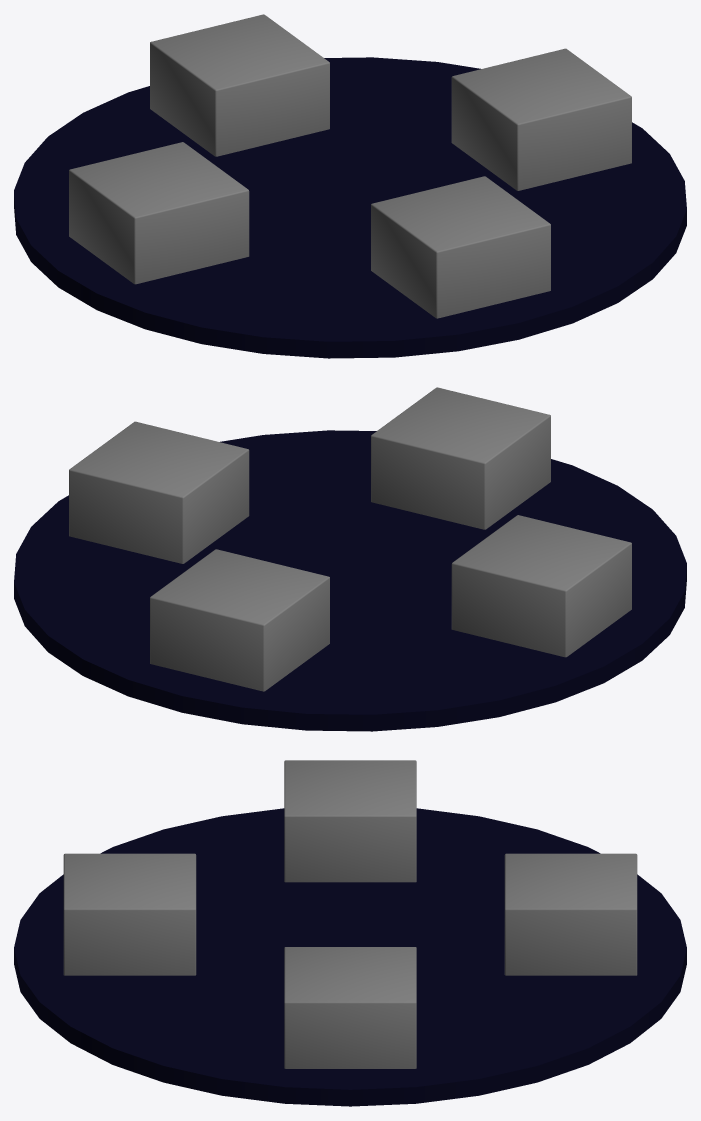
Rendered from Rotonda y Podios.gltf.
3 views of the same model, one above another, from view 1: azimuth 30°, elevation 25°; view 2: azimuth 150°, elevation 25°; view 3: azimuth 270°, elevation 25° (orthographic).
Parts seen in each view (by area): view 1: Rotonda, Podio 02, Podio 04, Podio 03, Podio 01; view 2: Rotonda, Podio 02, Podio 04, Podio 01, Podio 03; view 3: Rotonda, Podio 03, Podio 01, Podio 04, Podio 02.
Part boxes in pixels (x1=…): Rotonda: x1=14, y1=57, x2=686, y2=358; Podio 02: x1=451, y1=48, x2=631, y2=190; Podio 04: x1=69, y1=142, x2=249, y2=284; Podio 03: x1=150, y1=14, x2=329, y2=156; Podio 01: x1=371, y1=176, x2=550, y2=318; Rotonda: x1=14, y1=430, x2=686, y2=731; Podio 02: x1=69, y1=421, x2=249, y2=563; Podio 04: x1=451, y1=515, x2=631, y2=657; Podio 01: x1=371, y1=387, x2=550, y2=529; Podio 03: x1=150, y1=549, x2=329, y2=691; Rotonda: x1=14, y1=808, x2=686, y2=1106; Podio 03: x1=504, y1=853, x2=637, y2=975; Podio 01: x1=63, y1=853, x2=196, y2=975; Podio 04: x1=284, y1=760, x2=416, y2=882; Podio 02: x1=284, y1=947, x2=416, y2=1068.
Size of the model in its own units: 36.62 by 5 by 36.62.
